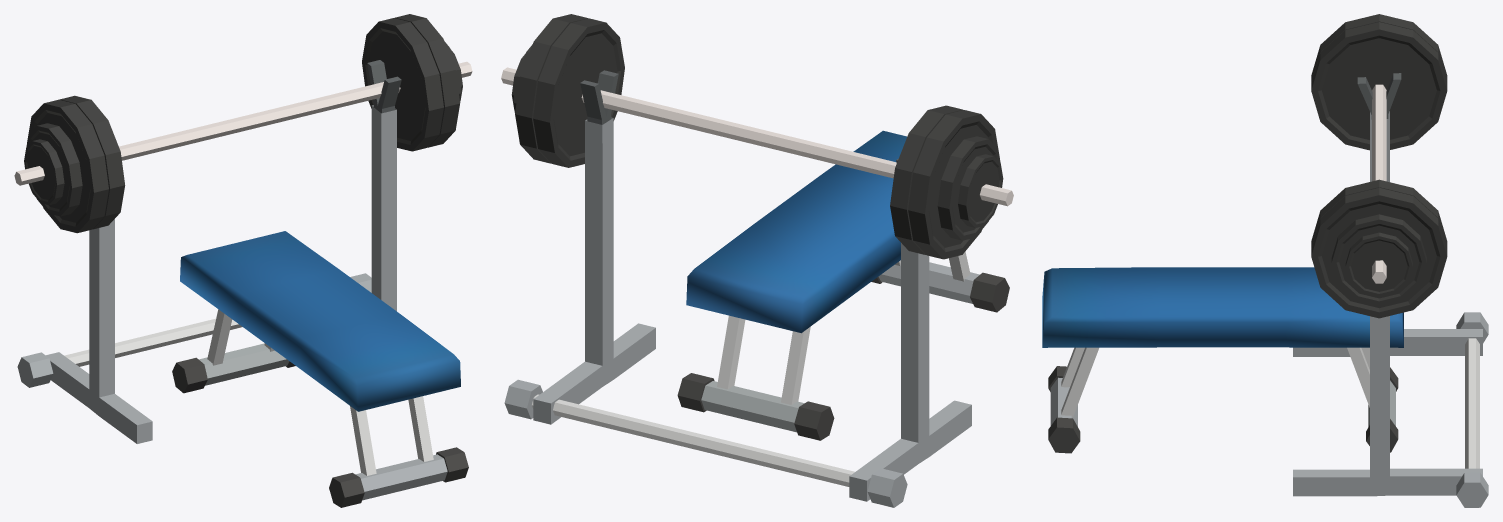
Rendered from barbell_set.glb.
3 renders of one model, left to right at view 1: azimuth 30°, elevation 25°; view 2: azimuth 150°, elevation 25°; view 3: azimuth 270°, elevation 25°, orthographic. The views are drawn at different scales.
Visible parts, largest first — view 1: GymEquipments_11; view 2: GymEquipments_11; view 3: GymEquipments_11.
Boxes of the visible parts, box(x1,y1,x2,y2) form: GymEquipments_11: box(14, 14, 472, 507); GymEquipments_11: box(501, 14, 1013, 507); GymEquipments_11: box(1042, 14, 1488, 507).
Size of the model in its own units: 1.02 by 0.6758 by 0.8587.
1 material, 1 textured.
